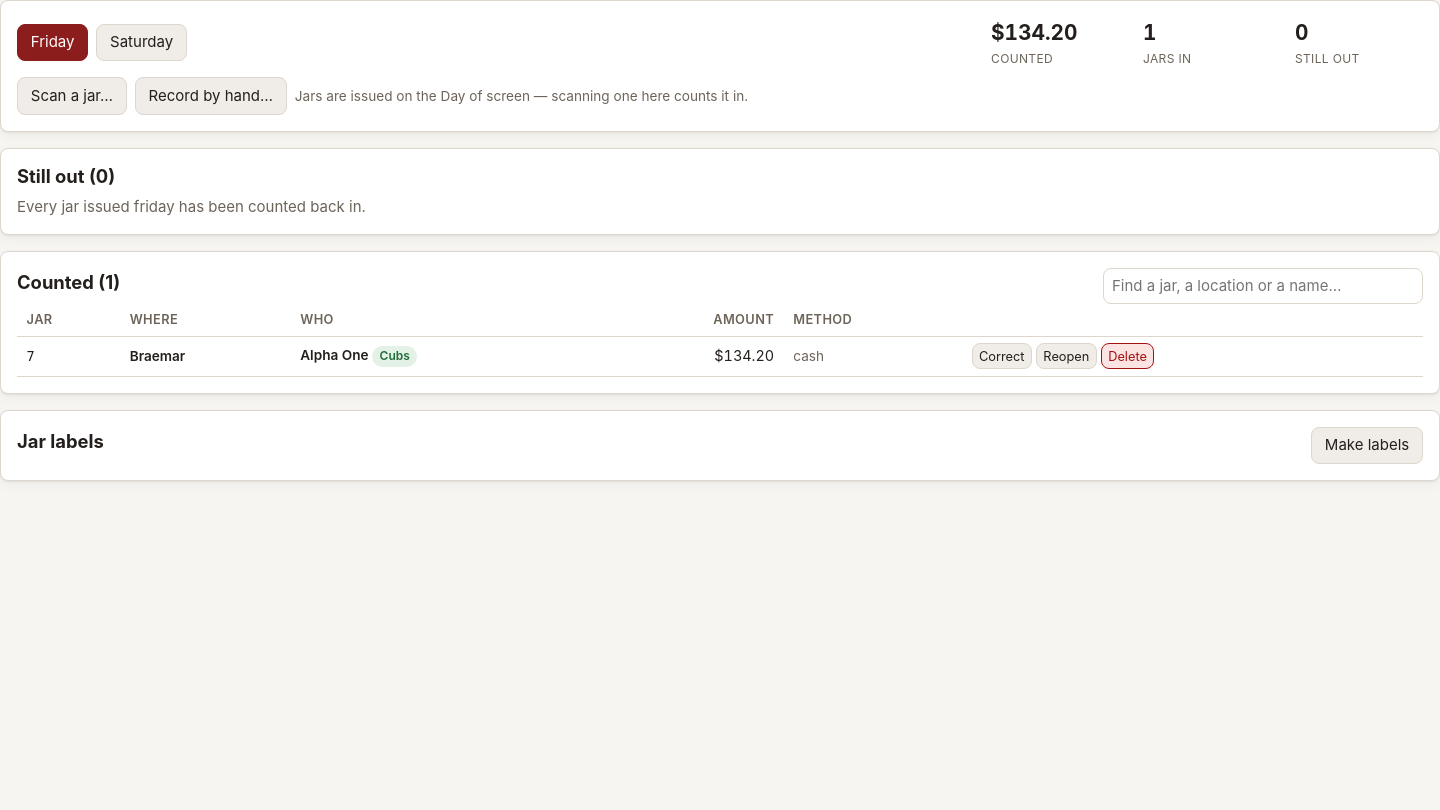
deleting a counted jar › asks first
This screenshot has width=1440, height=810.
Click the button "Delete" at (1128, 356), box [1101,343,1154,369]
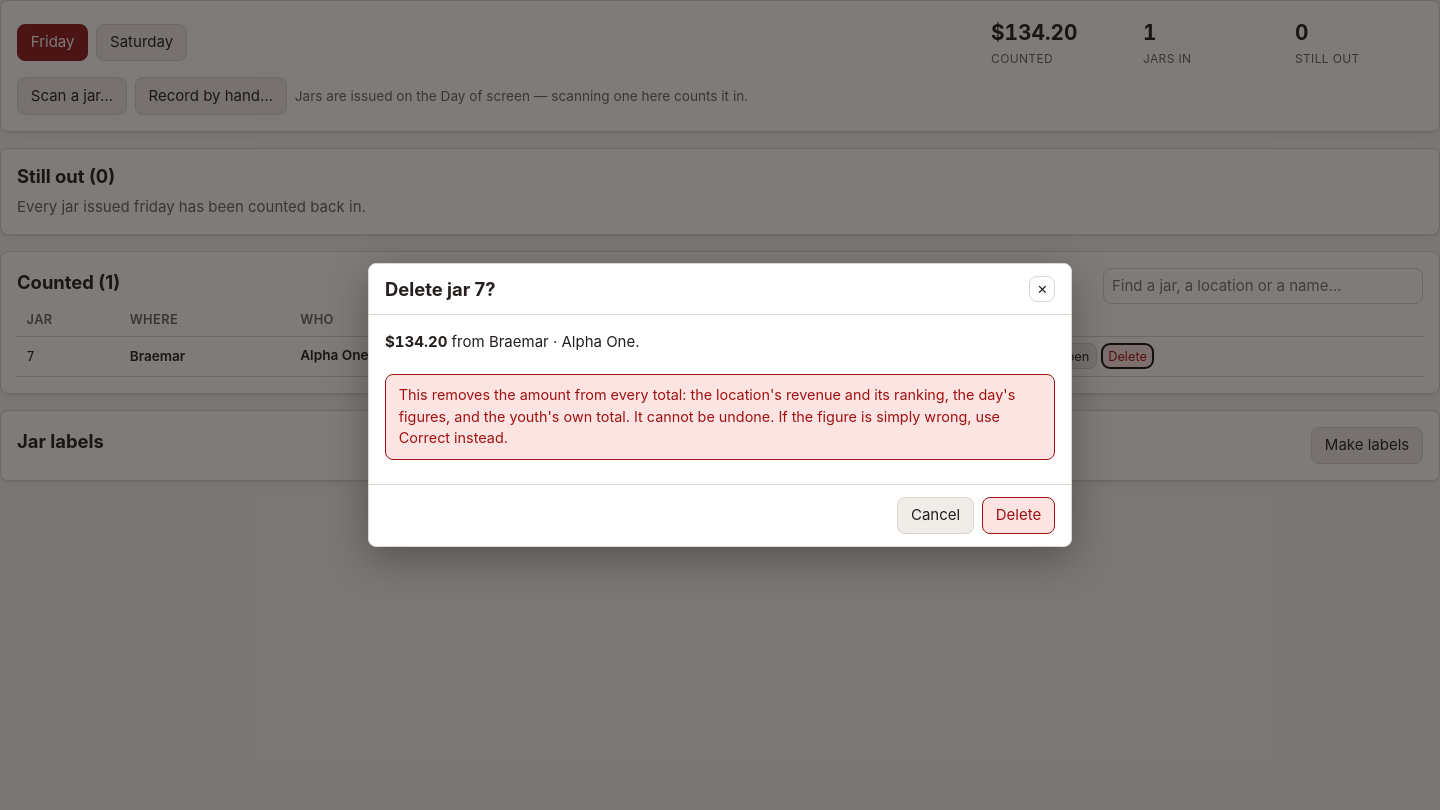
expect the heading "Delete jar 7?" is shown: met, box [385,278,496,300]
